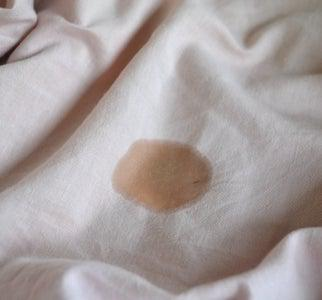gun: (109, 134, 212, 218)
